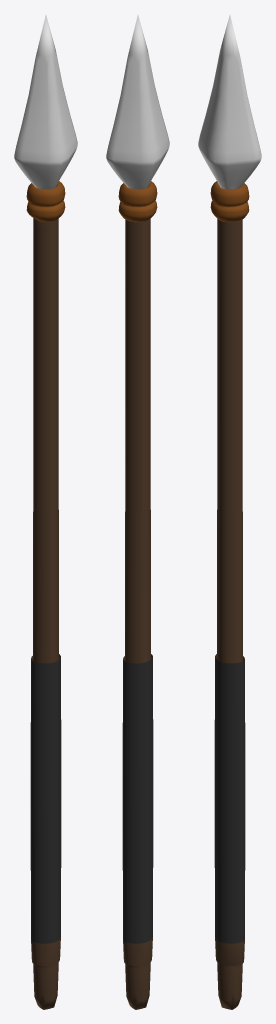
The model's file is lance.fbx.
3 views of the same model, side by side, from view 1: azimuth 30°, elevation 25°; view 2: azimuth 210°, elevation 25°; view 3: azimuth 330°, elevation 25° (orthographic).
Visible parts, largest first — view 1: pCube1; view 2: pCube1; view 3: pCube1.
Part boxes in pixels (x1,y1,x2,y2): pCube1: (14, 15, 77, 1009); pCube1: (106, 15, 169, 1009); pCube1: (198, 15, 261, 1009).
Size of the model in its own units: 7.04 by 105 by 5.98.
